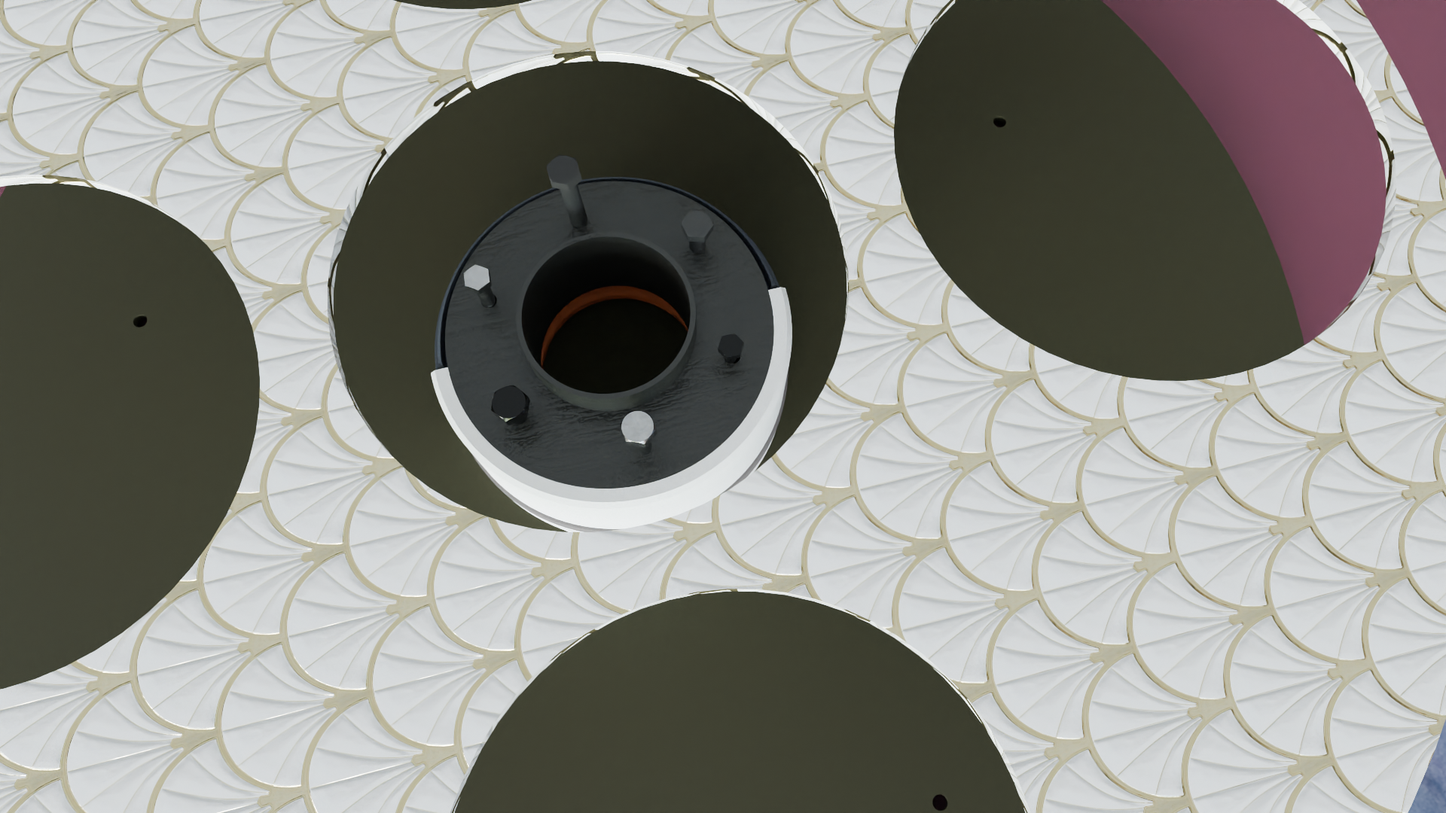bolt: (491, 385, 528, 422), (620, 411, 656, 444), (546, 154, 581, 185), (681, 211, 713, 238), (464, 265, 490, 291), (718, 333, 744, 358)
